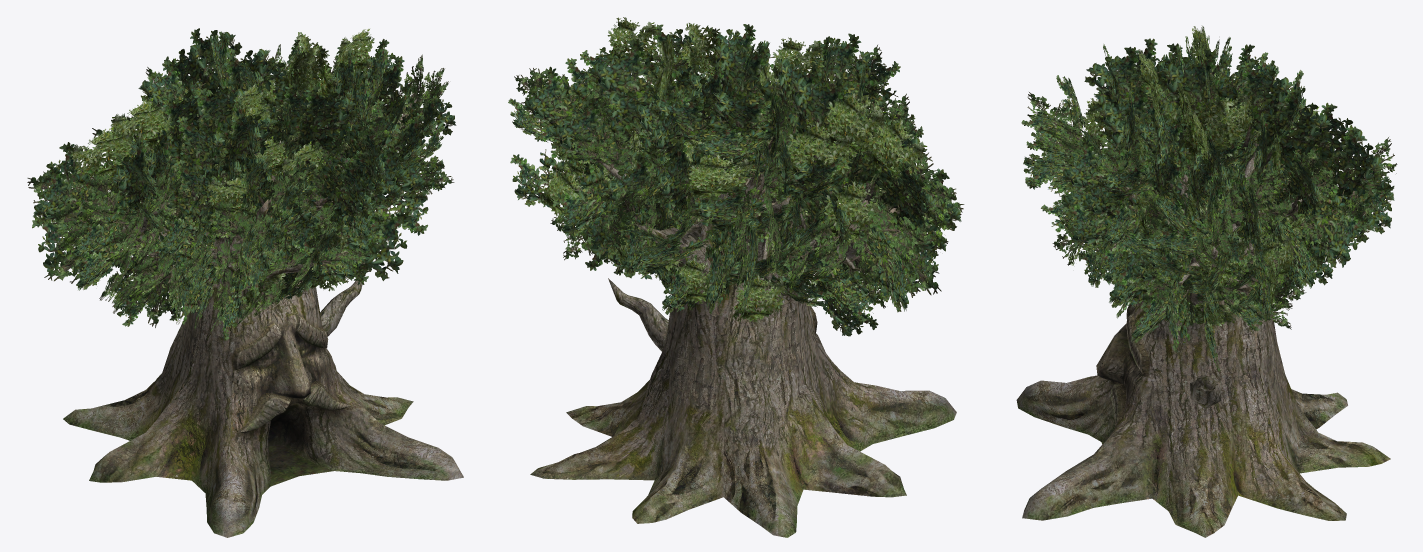
The model's file is dekutree1.obj.
3 views of the same model, side by side, from view 1: azimuth 30°, elevation 25°; view 2: azimuth 150°, elevation 25°; view 3: azimuth 270°, elevation 25° (orthographic). The views are drawn at different scales.
Visible parts, largest first — view 1: objMesh; view 2: objMesh; view 3: objMesh.
Boxes of the visible parts, left/top/right/bottom form: objMesh: left=27, top=28, right=463, bottom=537; objMesh: left=508, top=17, right=964, bottom=537; objMesh: left=1016, top=26, right=1397, bottom=537.
Size of the model in its own units: 1409 by 1199 by 1060.
